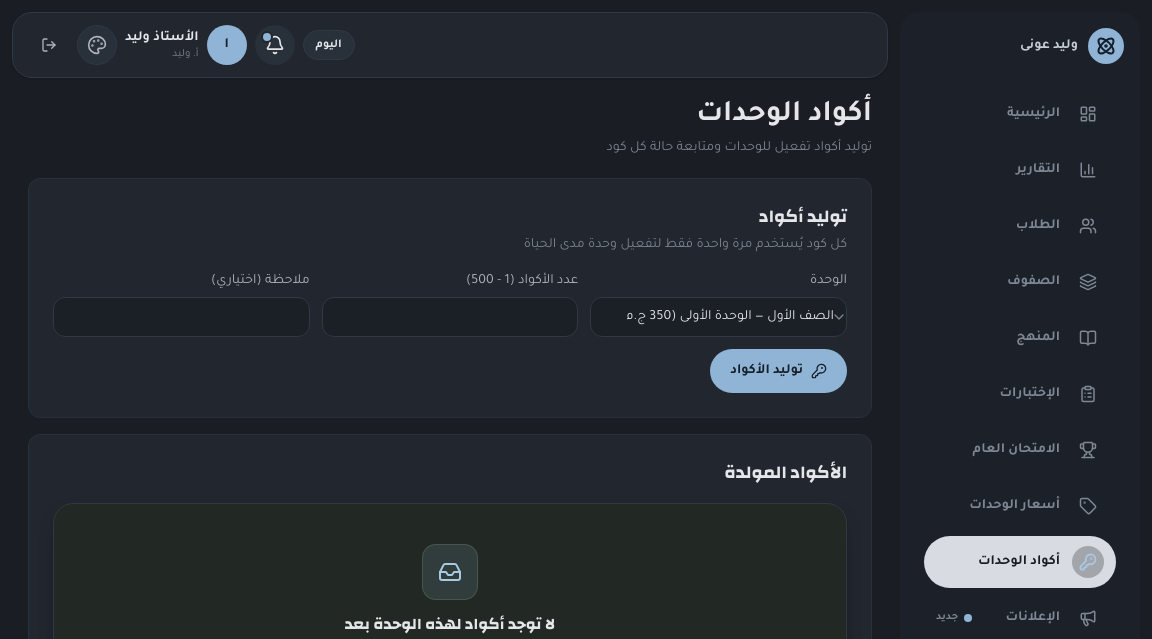
Test: CodesPage › renders the generated codes with the copy button and copies them to the clipboard
Type "2" into the number field labelled "عدد الأكواد (1 - 500)".
click(450, 317); type("2")  # box [322,297,578,337]
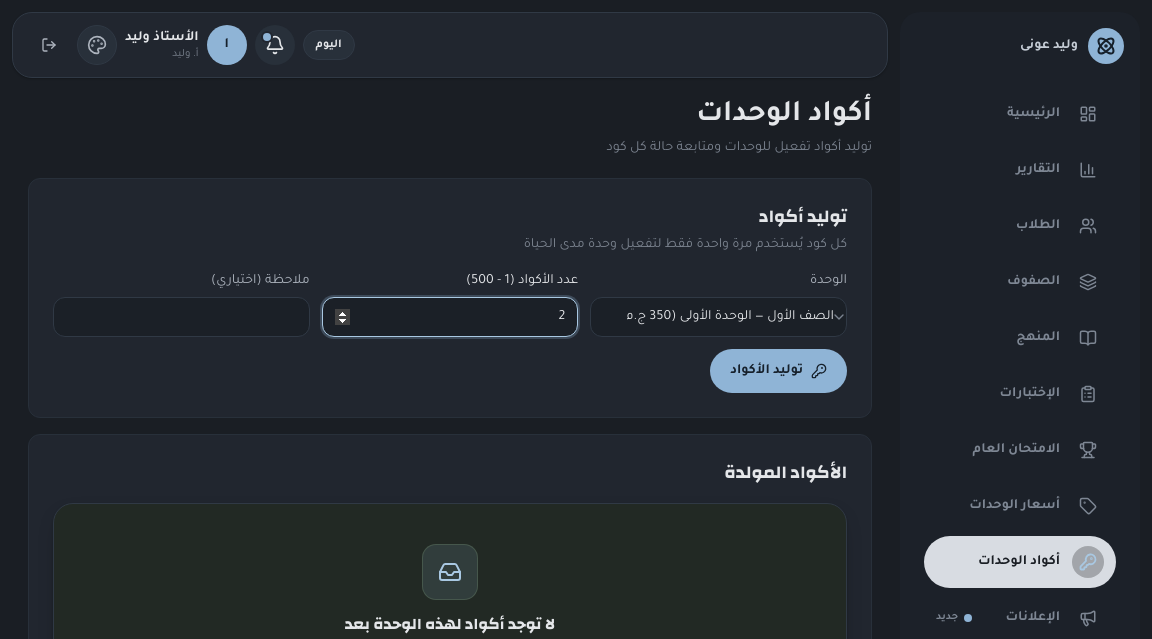
Click the button "توليد الأكواد".
click(779, 371)  # box [710,349,847,393]
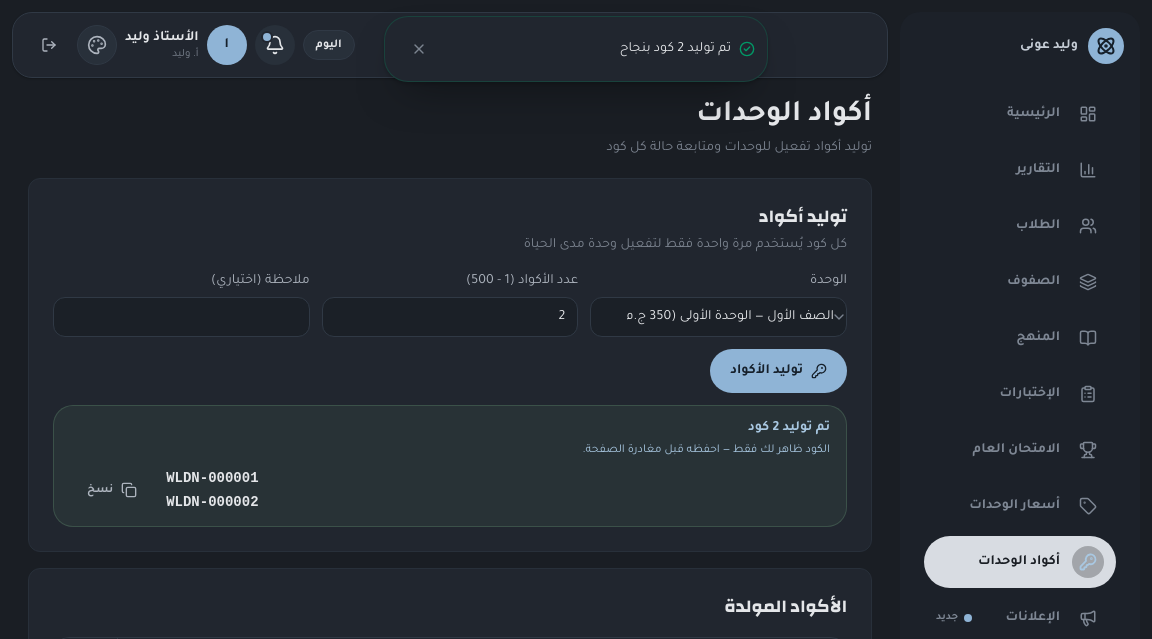
Now the text "تم توليد 2 كود بنجاح" is shown, box [620,42,731,56]
Now the text "الكود ظاهر لك فقط — احفظه قبل مغادرة الصفحة." is shown, box [582,444,830,456]
Click the button "نسخ" next to "WLDN-000001 WLDN-000002".
click(112, 490)  # box [70,470,154,510]
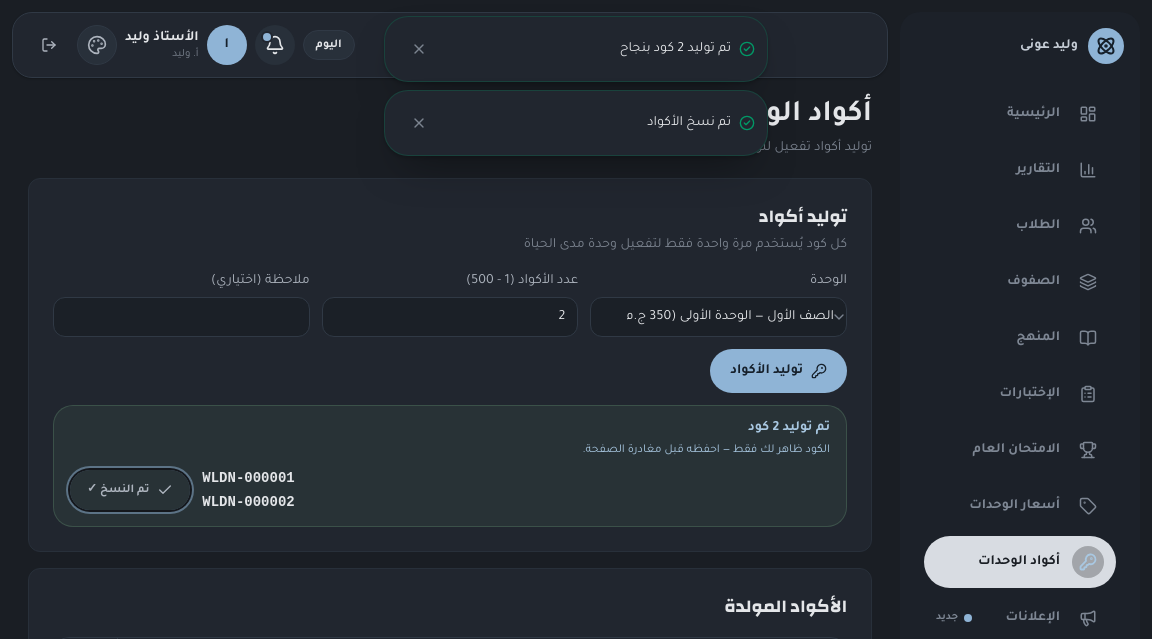
Now the text "تم نسخ الأكواد" is shown, box [647,116,731,130]
Now the button "تم النسخ ✓" is shown, box [70,470,190,510]
